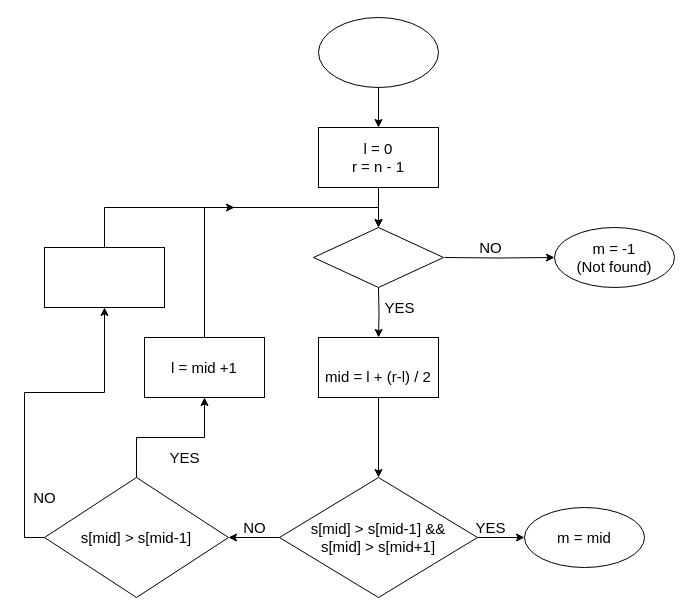
This 692x615 diagram has some shape labels left out. The shapes that lost their labels are listed below. From the top down, each one's centre as x and y in pixels, then its label:
At [378,52]: "array s[] size n".
At [104,277]: "r = mid - 1".
At [378,257]: "r >= l".
